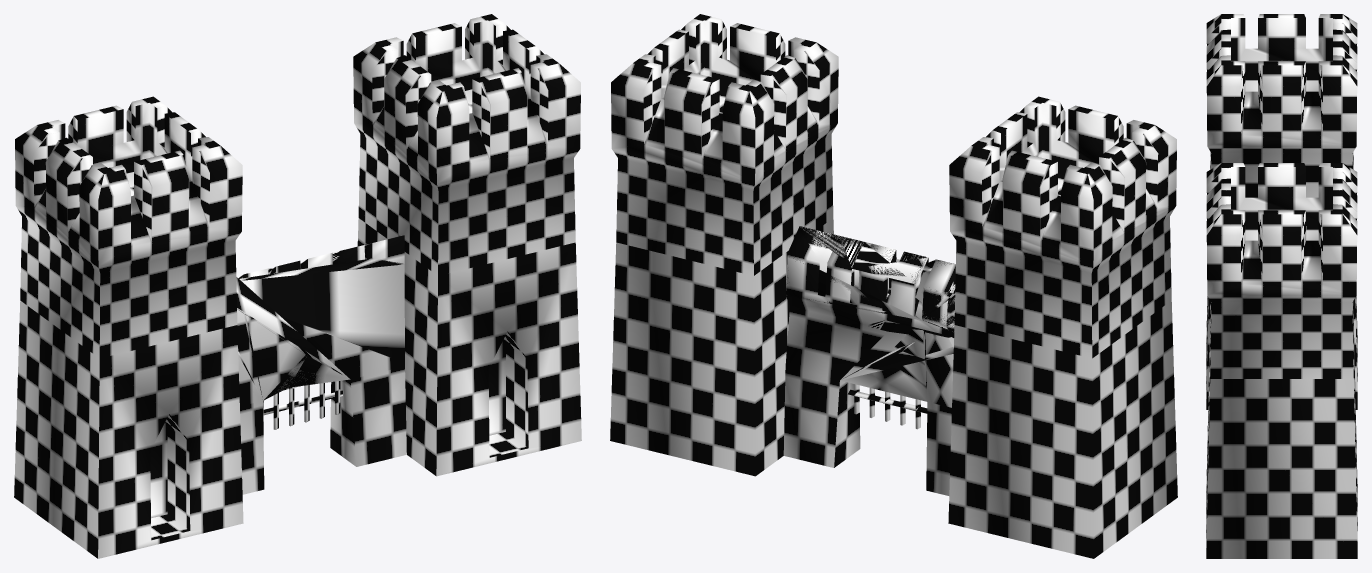
File: ingm5.dae
The picture shows the model from 3 angles, left to right: view 1: azimuth 30°, elevation 25°; view 2: azimuth 150°, elevation 25°; view 3: azimuth 270°, elevation 25°; orthographic projection. The views are drawn at different scales.
Visible parts, largest first — view 1: base, drbase, flag1, arrow; view 2: base, flag1, drbase, arrow; view 3: base.
Part boxes in pixels (<box>): base: <box>14,14,581,558</box>; drbase: <box>238,243,404,398</box>; flag1: <box>236,243,385,379</box>; arrow: <box>263,355,350,400</box>; base: <box>610,14,1177,558</box>; flag1: <box>800,227,955,407</box>; drbase: <box>786,226,955,380</box>; arrow: <box>840,367,926,401</box>; base: <box>1206,14,1357,558</box>.
Size of the model in its own units: 2.06 by 0.6187 by 1.52.
1 material, 1 textured.
